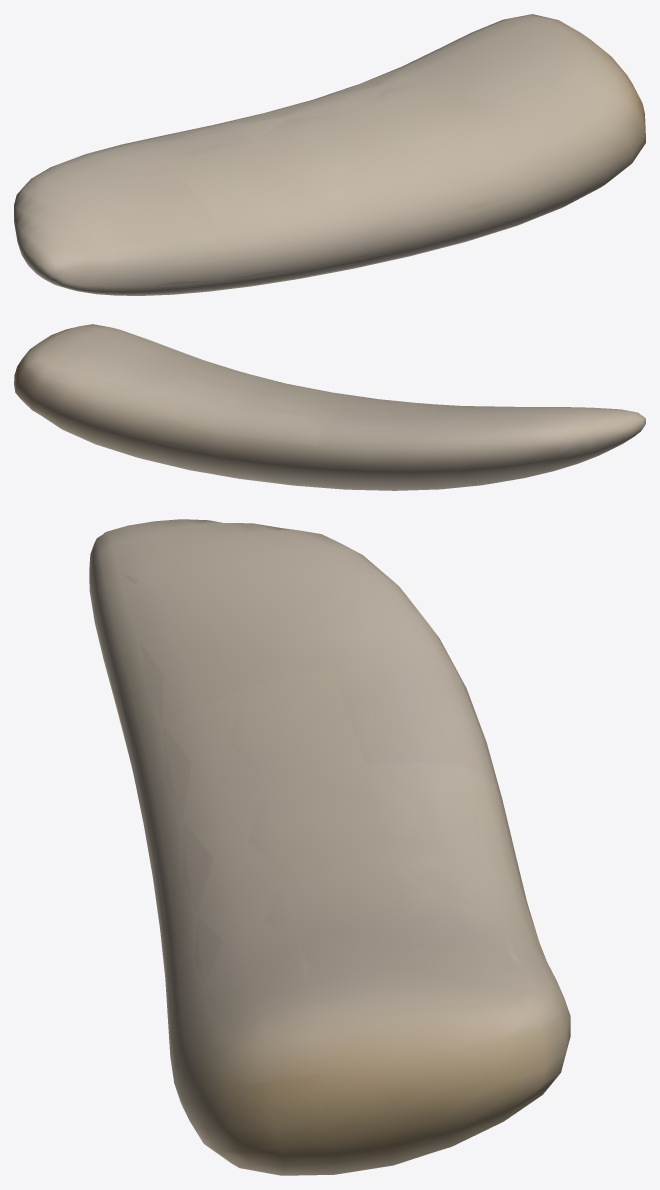
3 views of the same model, one above another, from view 1: azimuth 30°, elevation 25°; view 2: azimuth 150°, elevation 25°; view 3: azimuth 270°, elevation 25° (orthographic). The views are drawn at different scales.
Visible parts, largest first — view 1: CC R4, CC R4 low; view 2: CC R4, CC R4 low; view 3: CC R4, CC R4 low.
Boxes of the visible parts, <box> form: CC R4: <box>14,14,645,295</box>; CC R4 low: <box>96,34,580,285</box>; CC R4: <box>14,324,645,490</box>; CC R4 low: <box>82,338,514,451</box>; CC R4: <box>89,519,570,1175</box>; CC R4 low: <box>115,573,543,1033</box>.
Size of the model in its own units: 2.22 by 0.4523 by 0.8501.
1 material, 1 textured.
